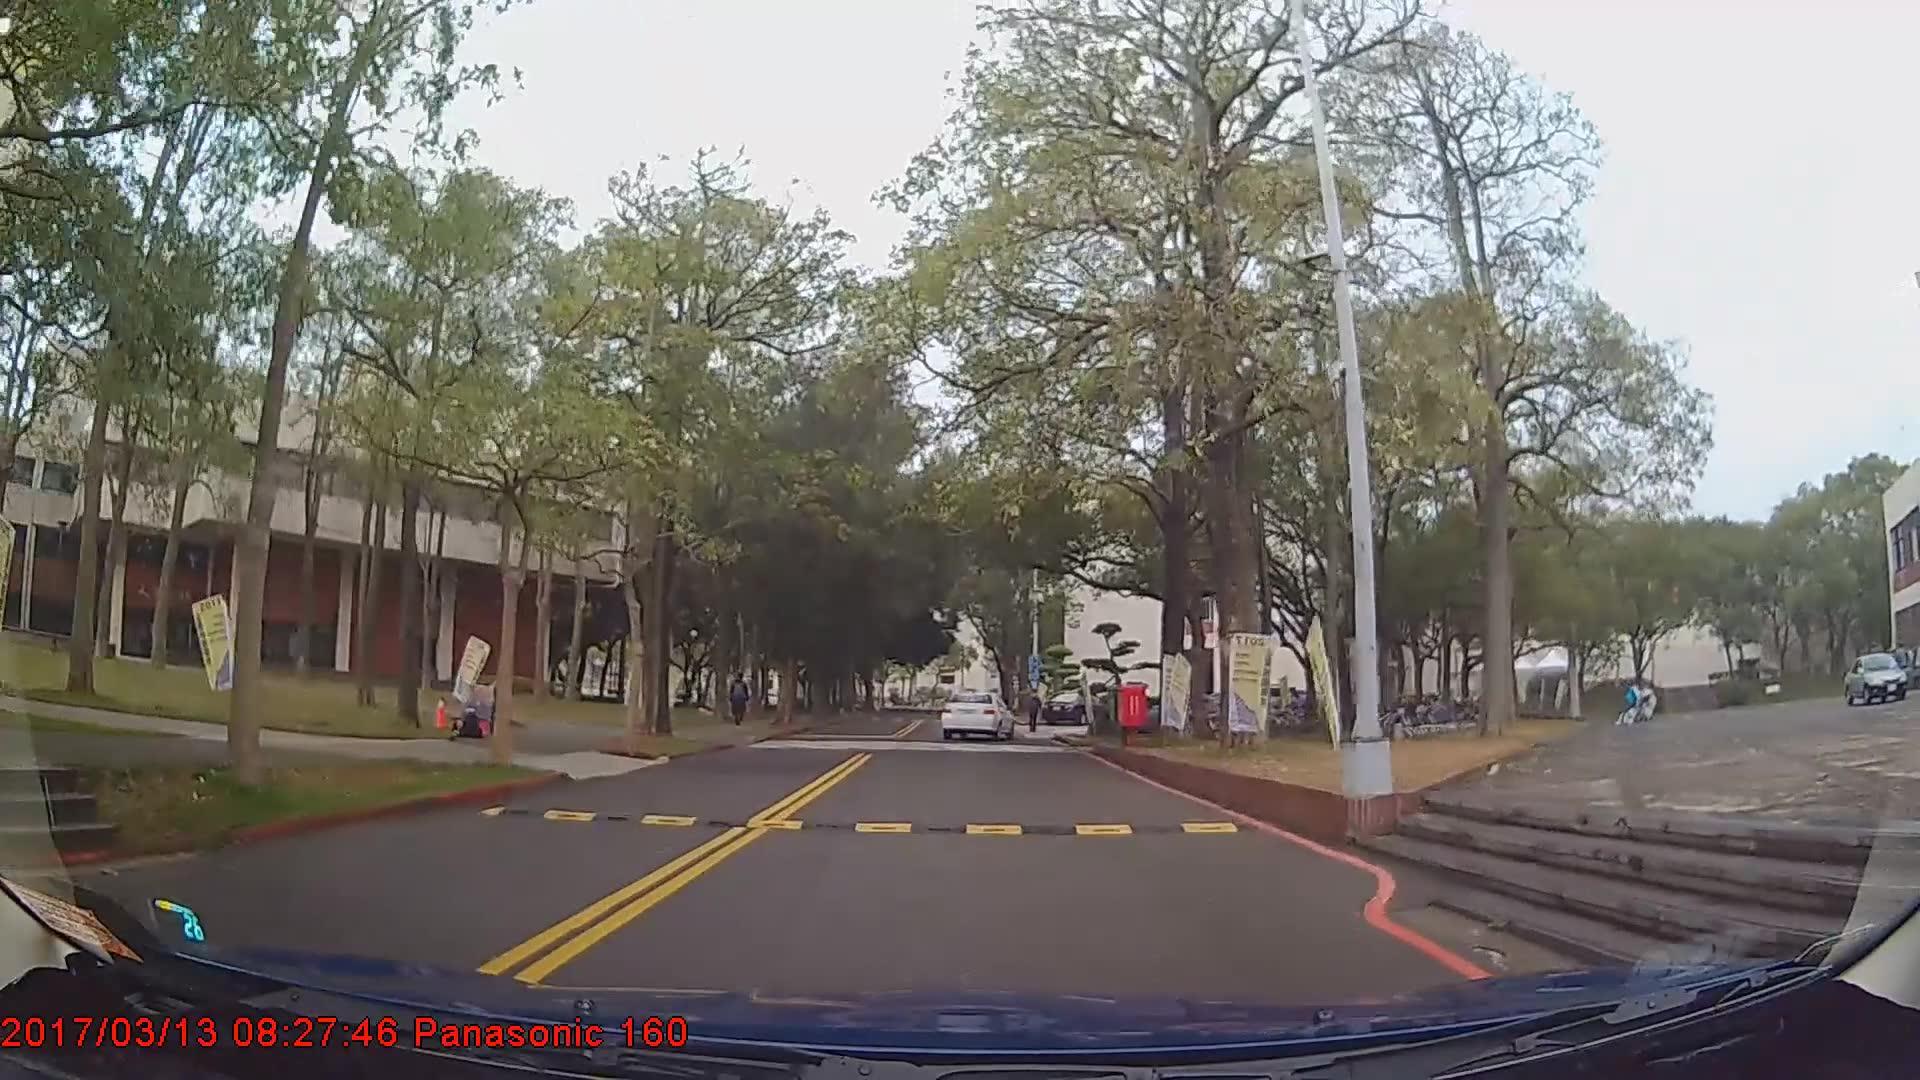pedestrian: (729, 674, 753, 728)
vehicle: (1839, 646, 1915, 708), (941, 689, 1013, 742), (1043, 687, 1099, 721)
